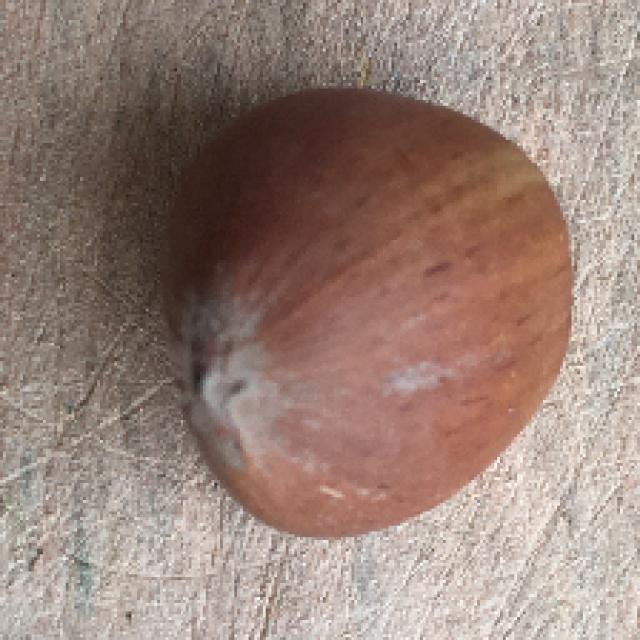DamagedHazelnut: (161, 84, 566, 544)
